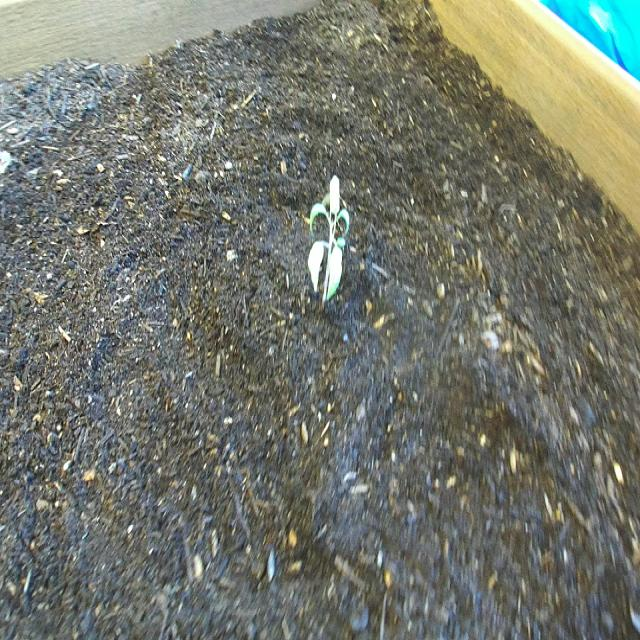Healthy: (299, 163, 360, 327)
